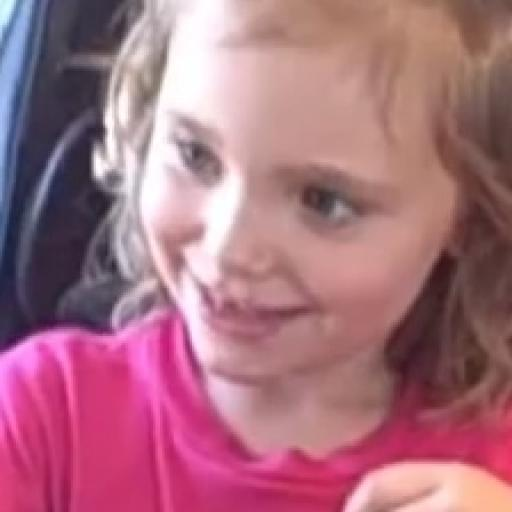Autism: (57, 35, 512, 349)
